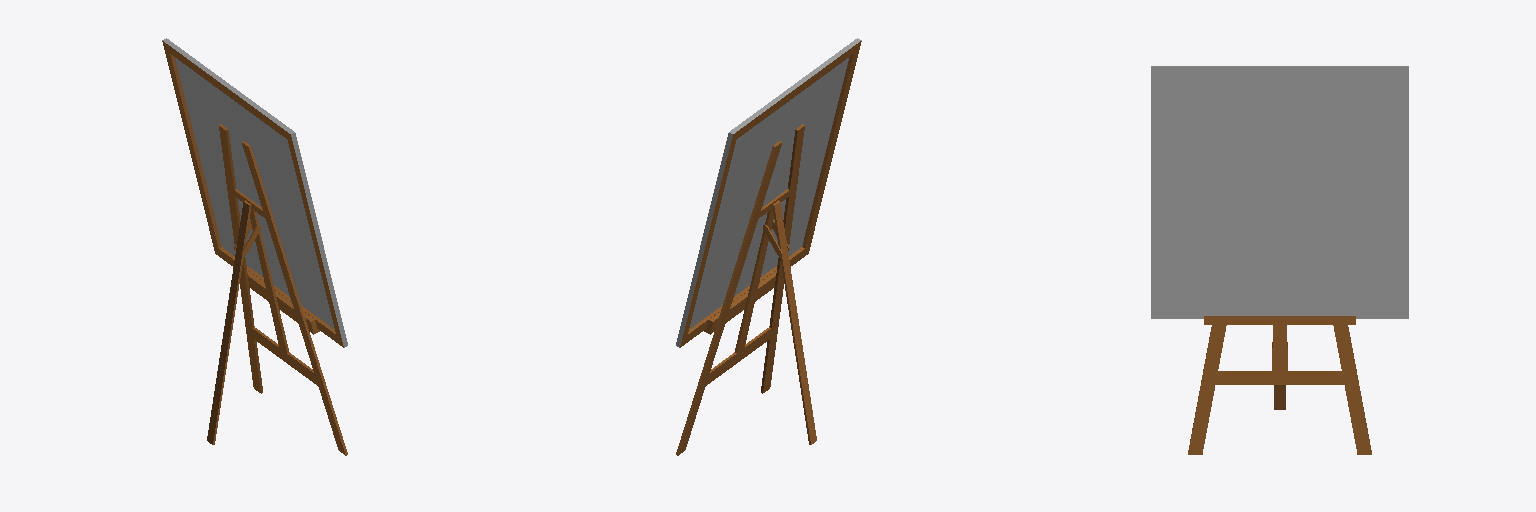
File: easelwCanvasBig.obj
3 views of the same model, side by side, from view 1: azimuth 30°, elevation 25°; view 2: azimuth 150°, elevation 25°; view 3: azimuth 270°, elevation 25° (orthographic).
Visible parts, largest first — view 1: Canvas_Cube.001, Easel_Cube; view 2: Canvas_Cube.001, Easel_Cube; view 3: Canvas_Cube.001, Easel_Cube.
Part boxes in pixels (left/top/right/bottom): Canvas_Cube.001: left=162, top=38, right=347, bottom=347; Easel_Cube: left=207, top=124, right=347, bottom=455; Canvas_Cube.001: left=676, top=38, right=861, bottom=347; Easel_Cube: left=676, top=124, right=816, bottom=455; Canvas_Cube.001: left=1151, top=66, right=1408, bottom=318; Easel_Cube: left=1188, top=316, right=1371, bottom=454.
Size of the model in its own units: 0.8287 by 3.03 by 2.